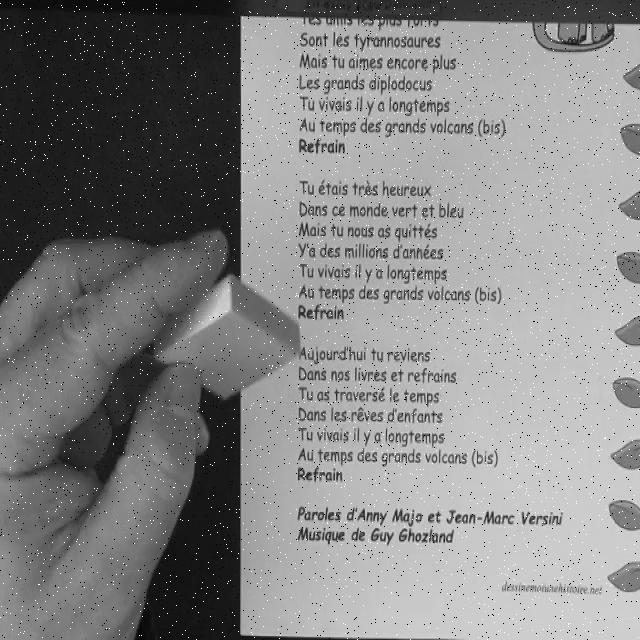square: (152, 275, 302, 402)
